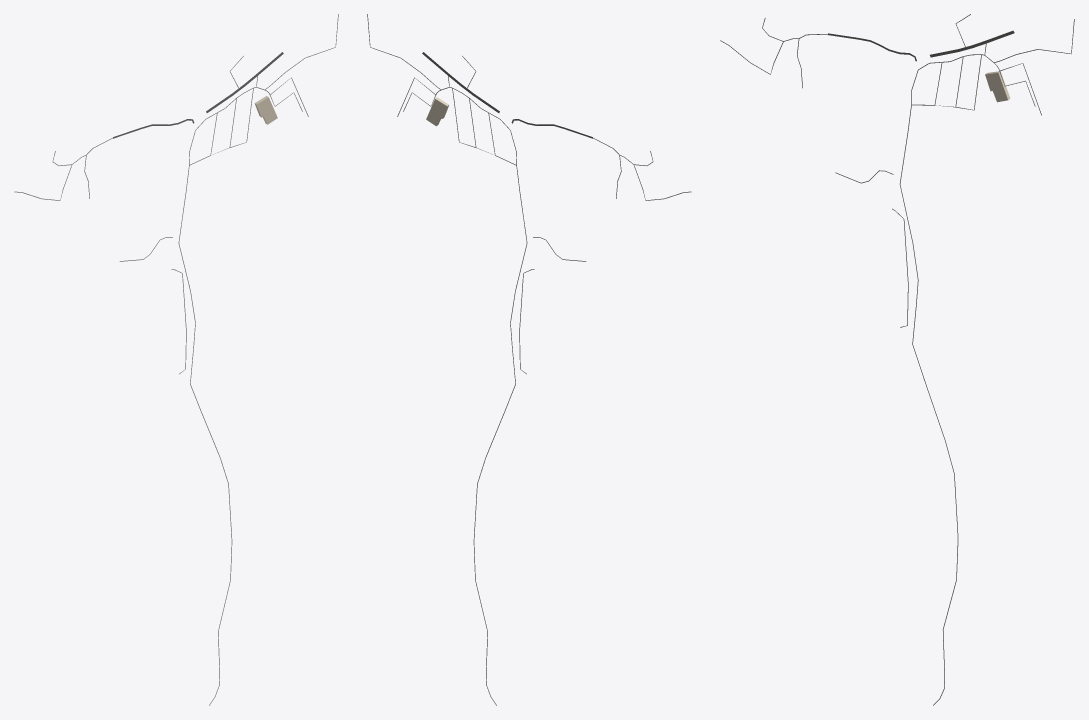
The model's file is historic-palestine-07_33_3493_3270.glb.
3 renders of one model, left to right at view 1: azimuth 30°, elevation 25°; view 2: azimuth 150°, elevation 25°; view 3: azimuth 330°, elevation 25°, orthographic. The views are drawn at different scales.
Visible parts, largest first — view 1: Road; view 2: Road; view 3: Road.
Boxes of the visible parts, x1,y1,x2,y2 form: Road: [178, 93, 243, 705]; Road: [462, 93, 527, 705]; Road: [899, 54, 971, 705].
Size of the model in its own units: 675 by 1312 by 8.7.
